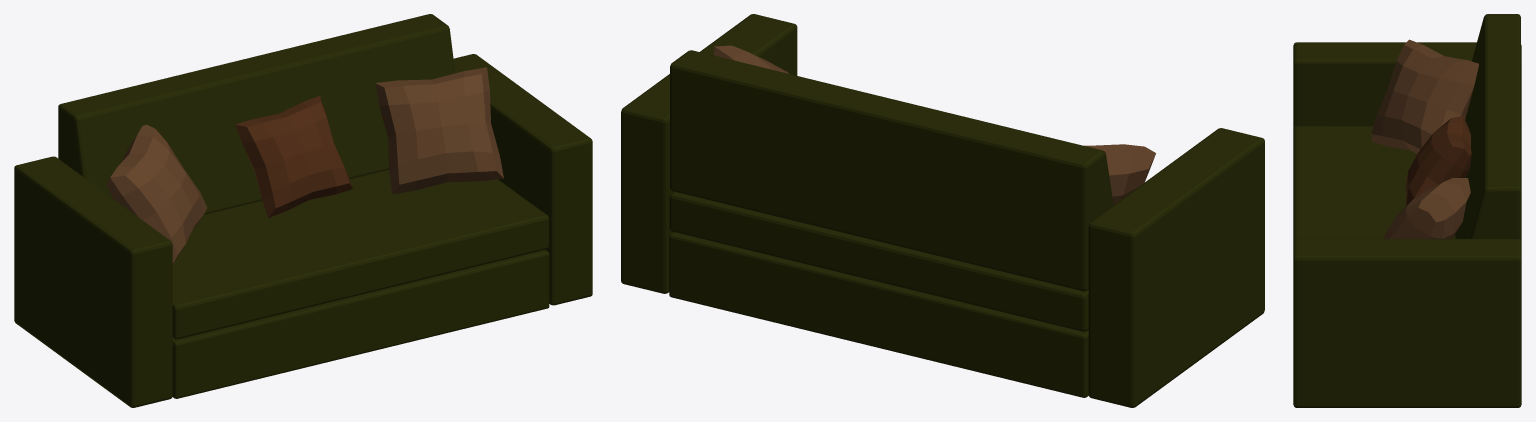
Rendered from Couch.glb.
The picture shows the model from 3 angles, left to right: view 1: azimuth 30°, elevation 25°; view 2: azimuth 150°, elevation 25°; view 3: azimuth 270°, elevation 25°; orthographic projection. The views are drawn at different scales.
Visible parts, largest first — view 1: Cube.030, Cube.028, Cube.029, Cube.026, Cube.031, Cube.033, Cube.032; view 2: Cube.029, Cube.030, Cube.026, Cube.028, Cube.032, Cube.031; view 3: Cube.030, Cube.028, Cube.029, Cube.032, Cube.031, Cube.033.
Boxes of the visible parts, box(x1,y1,x2,y2) form: Cube.030: box(14, 54, 592, 407); Cube.028: box(172, 170, 548, 339); Cube.029: box(58, 14, 455, 214); Cube.026: box(172, 250, 549, 398); Cube.031: box(375, 67, 503, 194); Cube.033: box(235, 96, 352, 217); Cube.032: box(106, 124, 207, 264); Cube.029: box(670, 50, 1113, 291); Cube.030: box(621, 14, 1264, 407); Cube.026: box(669, 232, 1088, 397); Cube.028: box(669, 191, 1088, 331); Cube.032: box(1084, 144, 1155, 204); Cube.031: box(714, 45, 789, 73); Cube.030: box(1293, 42, 1521, 407); Cube.028: box(1293, 126, 1521, 241); Cube.029: box(1455, 14, 1520, 240); Cube.032: box(1371, 39, 1478, 154); Cube.031: box(1382, 178, 1470, 238); Cube.033: box(1405, 116, 1471, 205).
Bounding box in the file's own units: 2.81 × 1.22 × 1.25.
